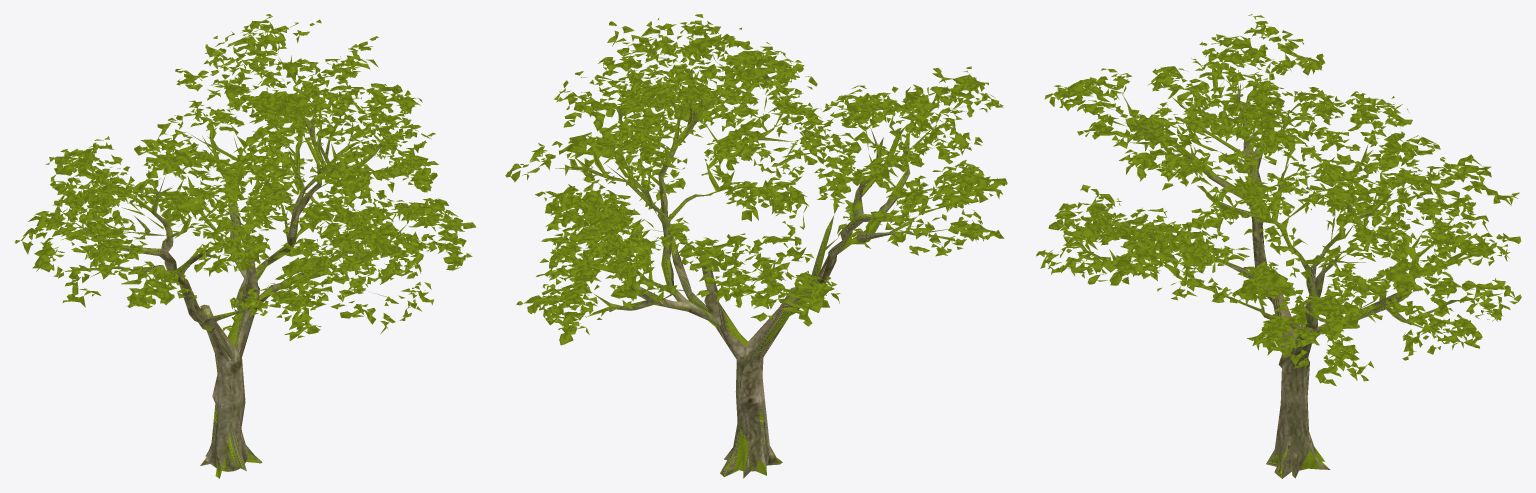
The model's file is tree10.glb.
The picture shows the model from 3 angles, left to right: view 1: azimuth 30°, elevation 25°; view 2: azimuth 150°, elevation 25°; view 3: azimuth 270°, elevation 25°; orthographic projection.
Size of the model in its own units: 1.35 by 1.25 by 1.35.
Materials: 1 (1 with a texture image).
